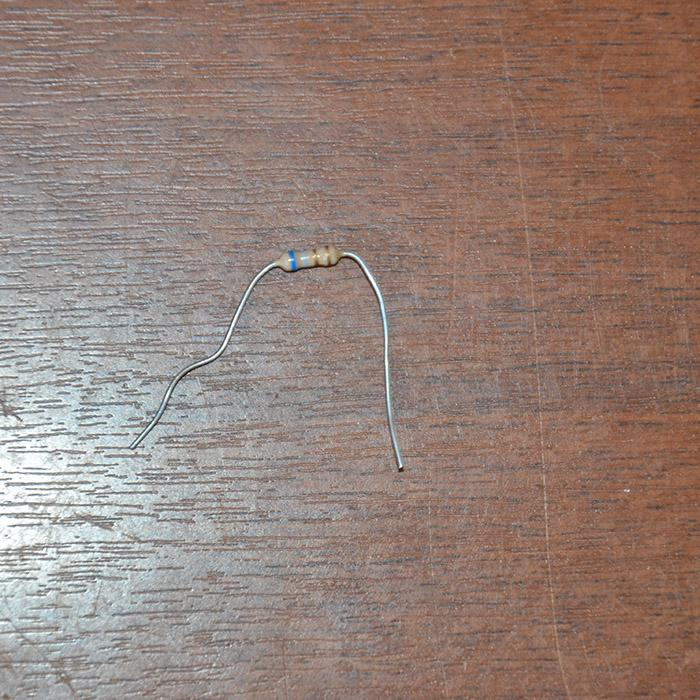resistor: (276, 244, 343, 272)
